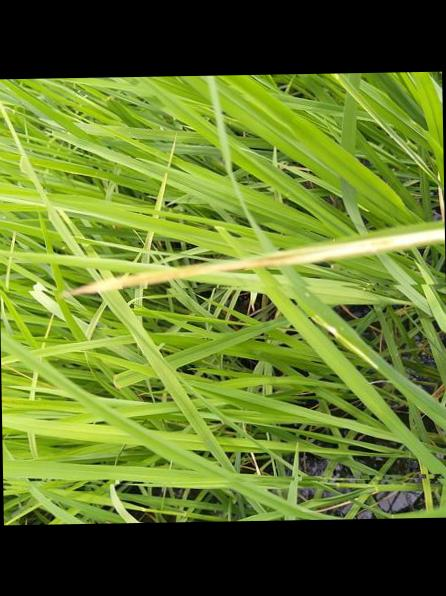Leaf Blight: (72, 219, 445, 294)
